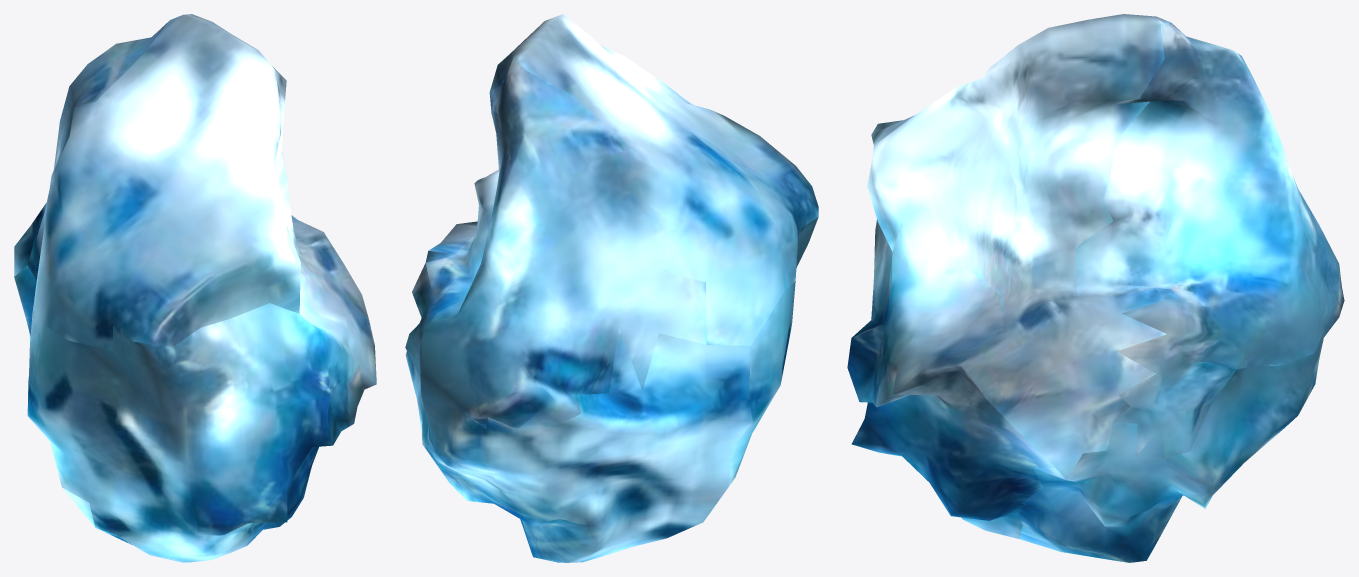
The model's file is crystal-haiku_cosmos_03.glb.
3 views of the same model, side by side, from view 1: azimuth 30°, elevation 25°; view 2: azimuth 150°, elevation 25°; view 3: azimuth 270°, elevation 25° (orthographic). The views are drawn at different scales.
Visible parts, largest first — view 1: mesh_node.001; view 2: mesh_node.001; view 3: mesh_node.001.
Boxes of the visible parts, left/top/right/bottom form: mesh_node.001: left=14, top=14, right=376, bottom=562; mesh_node.001: left=405, top=14, right=818, bottom=562; mesh_node.001: left=847, top=14, right=1344, bottom=562.
Size of the model in its own units: 0.2949 by 0.4521 by 0.3662.
Materials: 1 (1 with a texture image).
